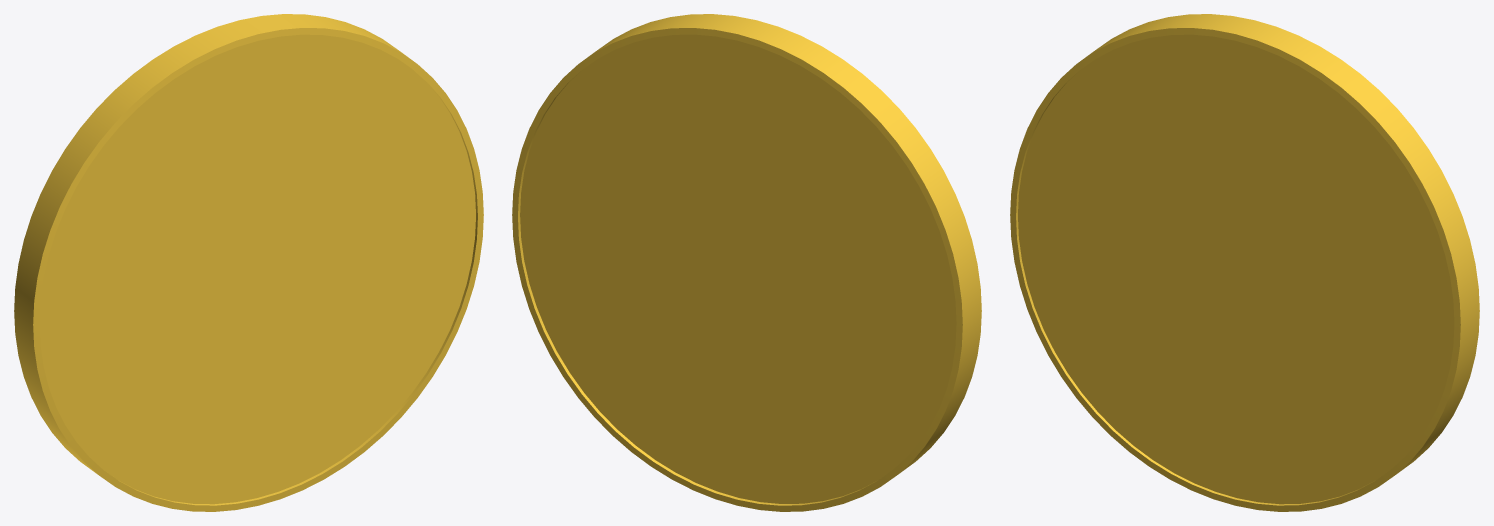
File: Münze Coin Island.fbx
The picture shows the model from 3 angles, left to right: view 1: azimuth 30°, elevation 25°; view 2: azimuth 150°, elevation 25°; view 3: azimuth 330°, elevation 25°; orthographic projection.
Visible parts, largest first — view 1: Cylinder; view 2: Cylinder; view 3: Cylinder.
Part boxes in pixels (x1,y1,x2,y2): Cylinder: [14, 14, 483, 511]; Cylinder: [512, 14, 981, 511]; Cylinder: [1010, 14, 1479, 511].
Size of the model in its own units: 200 by 200 by 15.
